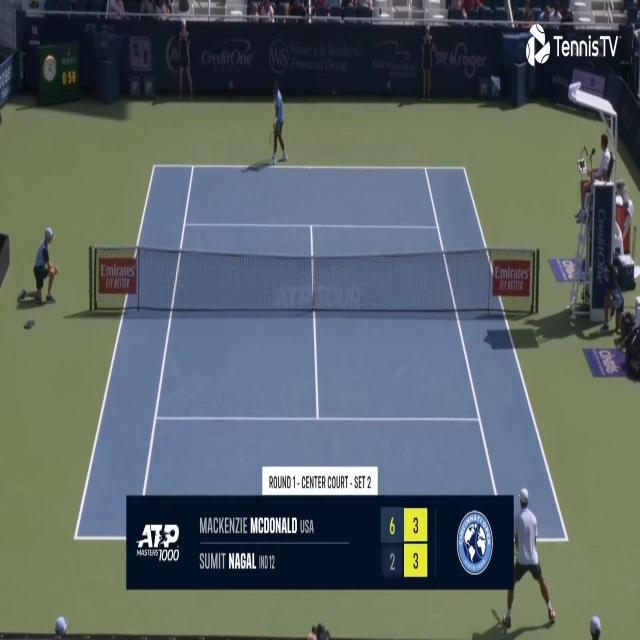tennis-player: (494, 485, 561, 636), (268, 76, 290, 165)
